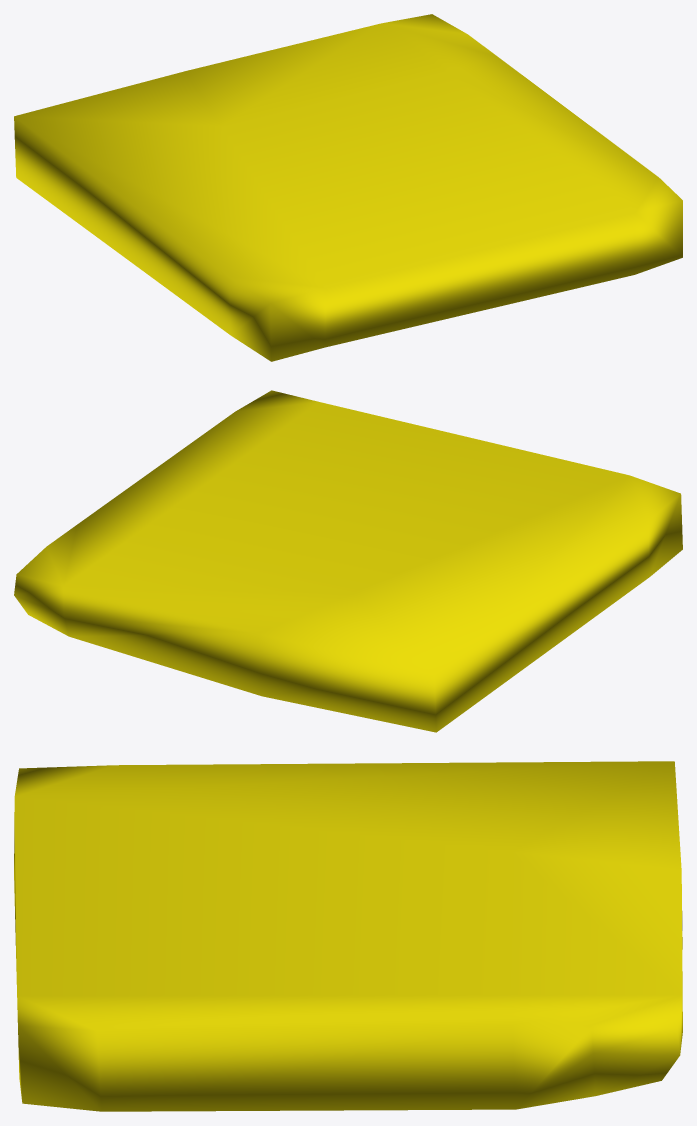
File: Pillar_Block_04_Lod0.fbx
3 renders of one model, top to bottom at view 1: azimuth 30°, elevation 25°; view 2: azimuth 150°, elevation 25°; view 3: azimuth 270°, elevation 25°, orthographic. The views are drawn at different scales.
Visible parts, largest first — view 1: Pillar_Block_04_Lod0; view 2: Pillar_Block_04_Lod0; view 3: Pillar_Block_04_Lod0.
Boxes of the visible parts, left/top/right/bottom form: Pillar_Block_04_Lod0: left=14, top=14, right=682, bottom=361; Pillar_Block_04_Lod0: left=14, top=390, right=682, bottom=732; Pillar_Block_04_Lod0: left=14, top=761, right=682, bottom=1111.
Bounding box in the file's own units: 481 × 74.43 × 507.
